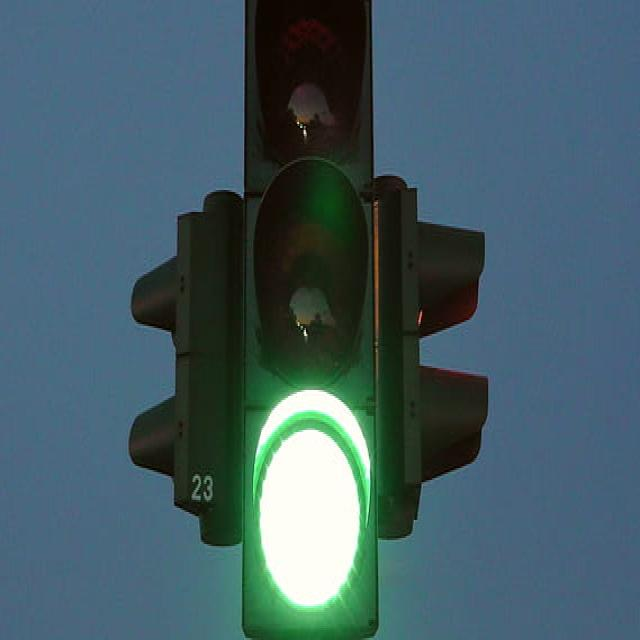green: (252, 392, 374, 614)
